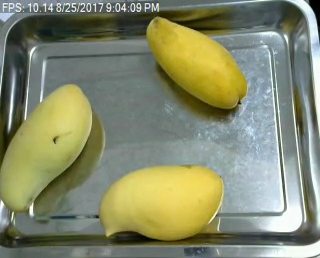Mango: (0, 79, 95, 214), (144, 11, 254, 108), (98, 162, 229, 242)
